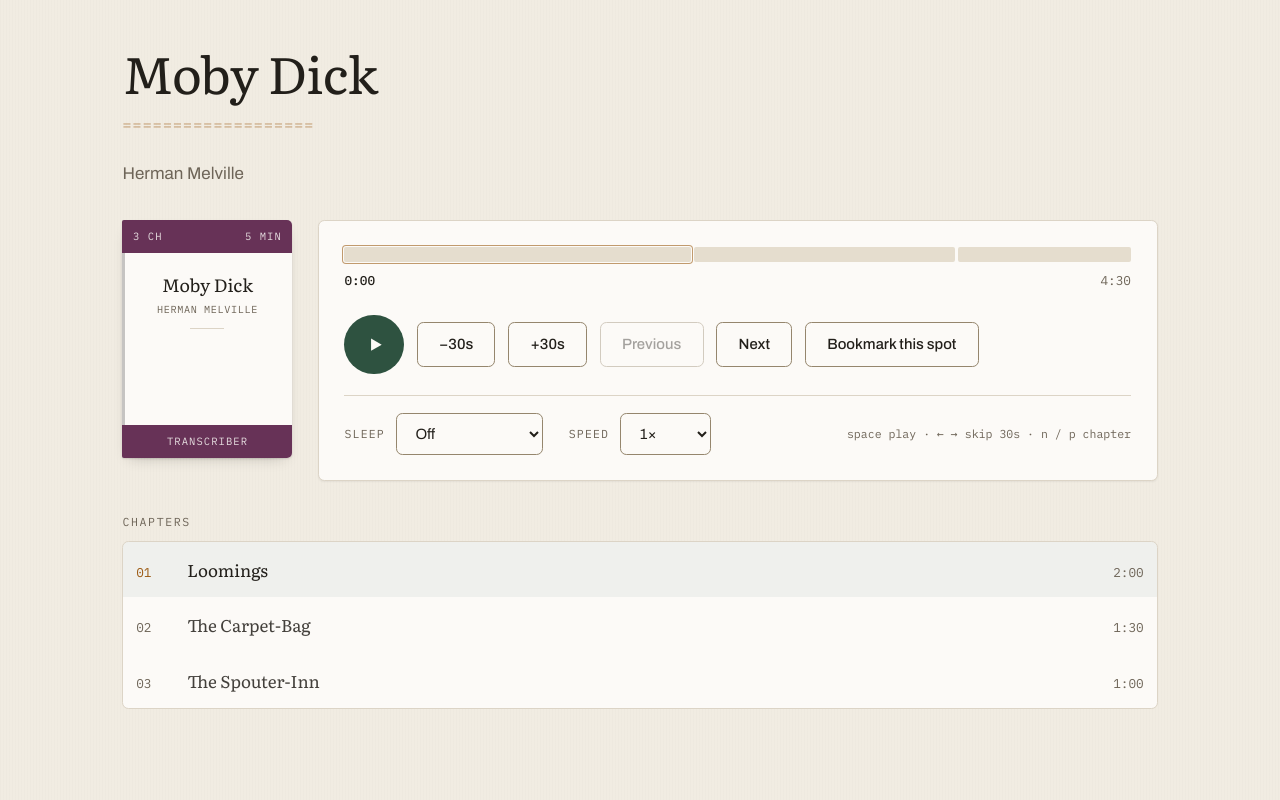
Scenario: Listen › Next is disabled on the final chapter
Click the button "03 The Spouter-Inn 1:00".
click(254, 680)  # box 124,653 -> 1157,708
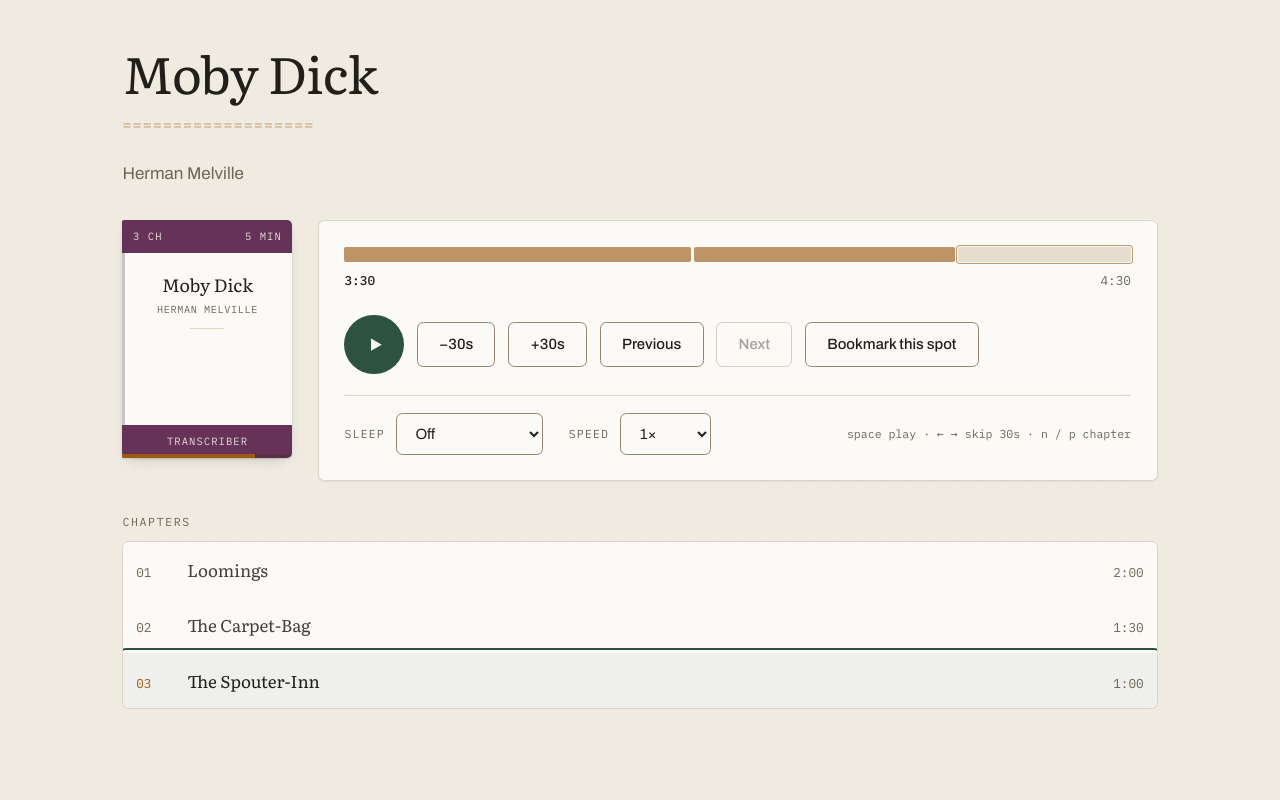
Now the button "Next" is disabled, box 716,322 -> 792,367
